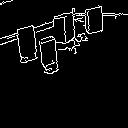cube: (12, 19, 38, 65), (79, 2, 108, 36), (52, 9, 76, 49), (39, 29, 58, 72)
